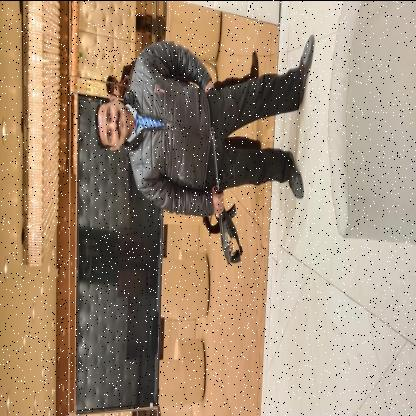rifle: (210, 124, 242, 266)
